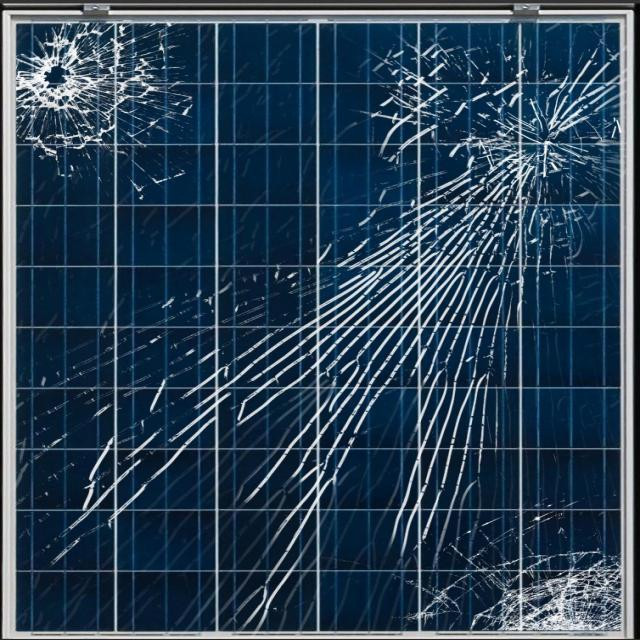faulty: (11, 6, 637, 640)
